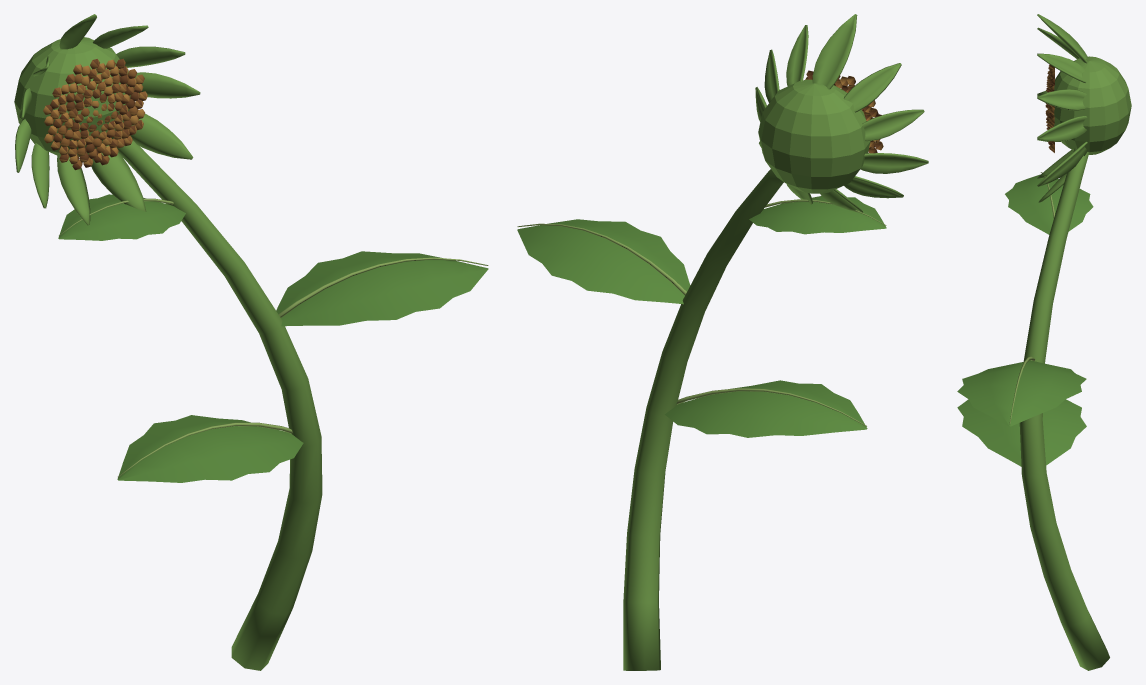
File: sunflower-v2-bud-1.glb
3 renders of one model, left to right at view 1: azimuth 30°, elevation 25°; view 2: azimuth 150°, elevation 25°; view 3: azimuth 270°, elevation 25°, orthographic. The views are drawn at different scales.
Parts seen in each view (by area): view 1: Curved tapered stem; view 2: Curved tapered stem; view 3: Curved tapered stem.
Boxes of the visible parts, box(x1,y1,x2,y2) form: Curved tapered stem: box(14, 14, 488, 670); Curved tapered stem: box(517, 14, 928, 670); Curved tapered stem: box(957, 14, 1131, 670).
Size of the model in its own units: 0.2287 by 0.3483 by 0.0954.
